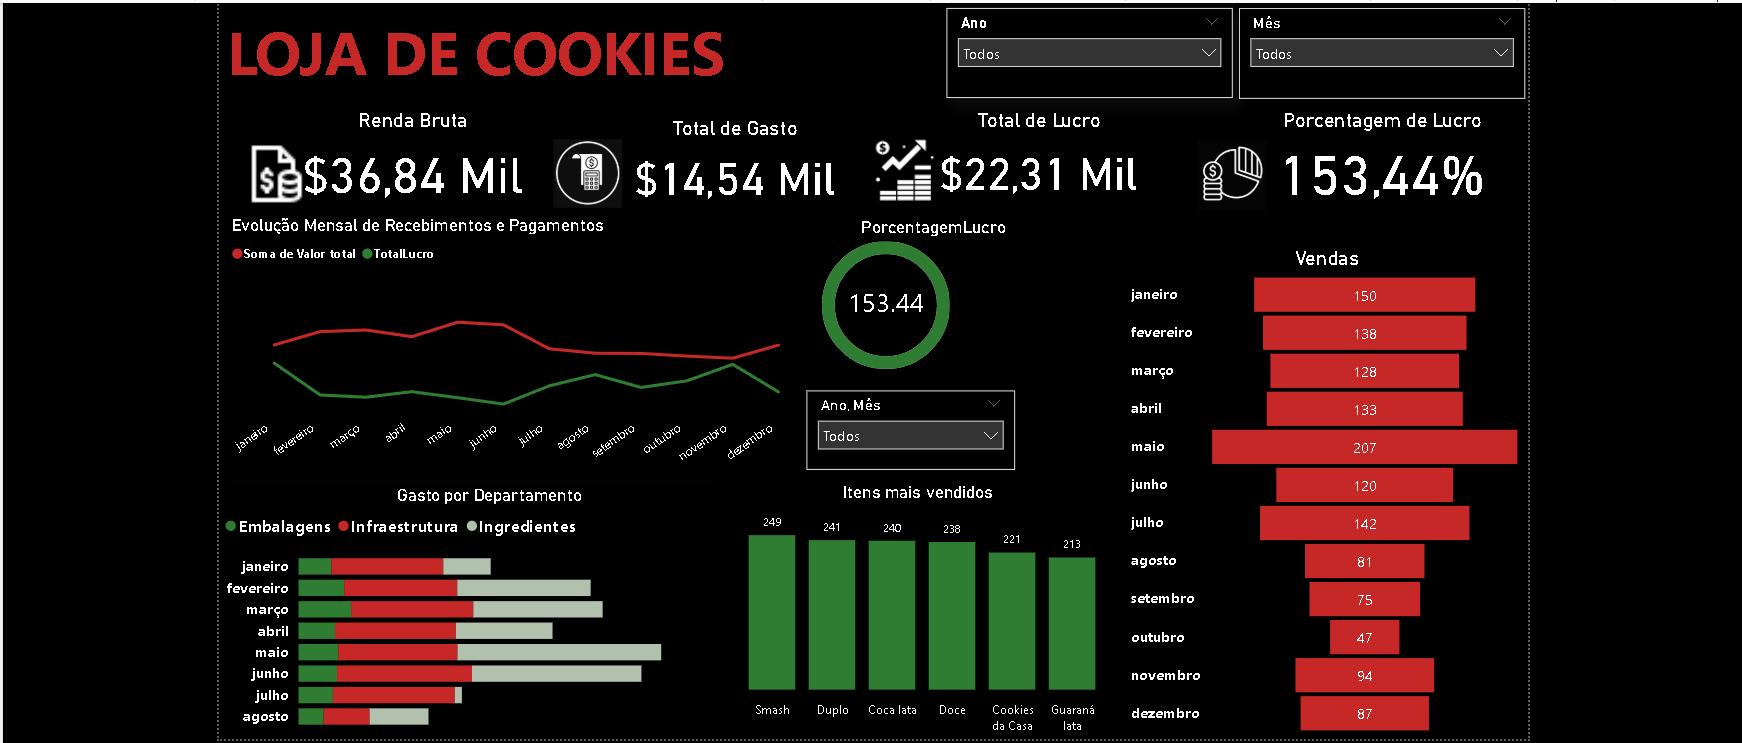

Layout of this report page (visuals, bound fields, positions):
{"tool":"powerbi","page":{"name":"Página 1","canvas":[1280,720],"ordinal":0},"visuals":[{"type":"slicer","fields":{"Values":["Gasto Geral.Data.Variation.Hierarquia de datas.Ano"]},"box":[711.8,5,279.7,88],"z":0},{"type":"slicer","fields":{"Values":["Gasto Geral.Data.Variation.Hierarquia de datas.Mês"]},"box":[997.8,5,279.7,88.8],"z":1000},{"type":"card","title":"Total de Lucro","fields":{"Values":["Gasto Geral.TotalLucro"]},"box":[682.5,104.4,239.6,95.5],"z":3000},{"type":"card","title":"Porcentagem de Lucro","fields":{"Values":["Gasto Geral.TotalLucro dividido por Soma de Valor total"]},"box":[1002.2,104.4,270,95.5],"z":4000},{"type":"lineChart","title":"Evolução Mensal de Recebimentos e Pagamentos","fields":{"Y":["Sum(Gasto Geral.Valor total)","Gasto Geral.TotalLucro"],"Category":["Gasto Geral.Data.Variation.Hierarquia de datas.Mês"]},"box":[7.2,206.5,563.2,265],"z":5000},{"type":"circleCard68ECC0CB90BE47B3962072B48765978B","fields":{"measure":["Gasto Geral.PorcentagemLucro"]},"box":[569.8,208.7,243.5,161.8],"z":6000},{"type":"barChart","title":"Gasto por Departamento ","fields":{"Category":["Gasto Geral.Data.Variation.Hierarquia de datas.Mês"],"Y":["Sum(Gasto Geral.Valor total)"],"Series":["Gasto Geral.Departamento"]},"box":[0,471,529,249.6],"z":7000},{"type":"funnel","title":"Vendas","fields":{"Y":["CountNonNull(Pedidos separados.itens)"],"Category":["Pedidos separados.data_pedido.Variation.Hierarquia de datas.Mês"]},"box":[887.4,238,392.6,482],"z":8000},{"type":"textbox","box":[1.9,1.9,519.7,90.7],"z":9000},{"type":"image","box":[7.7,128.7,92.8,77.9],"z":10000},{"type":"card","title":"Renda Bruta","fields":{"Values":["Sum(cardapio_db pedido.total)"]},"box":[69.6,104.4,240,92],"z":11000},{"type":"image","box":[625,124.2,92.8,77.9],"z":12000},{"type":"image","box":[314.2,128,92,77],"z":13000},{"type":"image","box":[944.7,129.2,92.8,77.9],"z":14000},{"type":"clusteredColumnChart","title":"Itens mais vendidos","fields":{"Category":["Pedidos separados.itens"],"Y":["CountNonNull(Pedidos separados.itens)"]},"box":[483.7,468.8,397.6,249.6],"z":15000},{"type":"slicer","fields":{"Values":["Pedidos separados.data_pedido.Variation.Hierarquia de datas.Ano","Pedidos separados.data_pedido.Variation.Hierarquia de datas.Mês"]},"box":[574.2,379.3,203.7,77.9],"z":16000},{"type":"card","title":"Total de Gasto","fields":{"Values":["Sum(Gasto Geral.Valor total)"]},"box":[379.9,111,248.5,91.1],"z":17001}]}

Visuals, with their boxes on the page's 1280x720 design canvas (x1, y1, x2, y2). These are canvas units, not pixel positions in the 1742x743 screenshot, which may show the page scaled, cropped or inside an application window:
slicer - Gasto Geral.Data.Variation.Hierarquia de datas.Ano: rect(712, 5, 992, 93)
slicer - Gasto Geral.Data.Variation.Hierarquia de datas.Mês: rect(998, 5, 1278, 94)
"Total de Lucro" card: rect(682, 104, 922, 200)
"Porcentagem de Lucro" card: rect(1002, 104, 1272, 200)
"Evolução Mensal de Recebimentos e Pagamentos" lineChart: rect(7, 206, 570, 472)
circleCard68ECC0CB90BE47B3962072B48765978B - Gasto Geral.PorcentagemLucro: rect(570, 209, 813, 370)
"Gasto por Departamento " barChart: rect(0, 471, 529, 721)
"Vendas" funnel: rect(887, 238, 1280, 720)
textbox: rect(2, 2, 522, 93)
image: rect(8, 129, 100, 207)
"Renda Bruta" card: rect(70, 104, 310, 196)
image: rect(625, 124, 718, 202)
image: rect(314, 128, 406, 205)
image: rect(945, 129, 1038, 207)
"Itens mais vendidos" clusteredColumnChart: rect(484, 469, 881, 718)
slicer - Pedidos separados.data_pedido.Variation.Hierarquia de datas.Ano x Pedidos separados.data_pedido.Variation.Hierarquia de datas.Mês: rect(574, 379, 778, 457)
"Total de Gasto" card: rect(380, 111, 628, 202)
